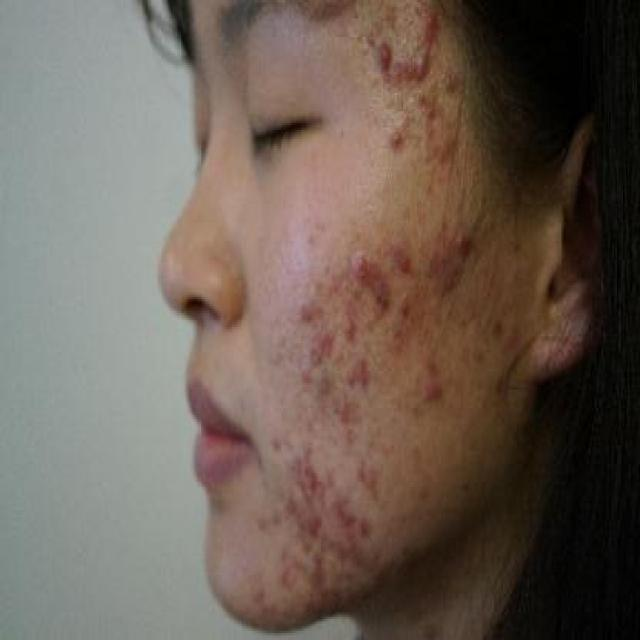dark spot: (410, 364, 444, 413)
nodules: (381, 225, 417, 278)
papules: (417, 2, 449, 44), (371, 30, 397, 81), (342, 248, 372, 292), (402, 44, 432, 88), (452, 216, 472, 276), (383, 123, 411, 155)
